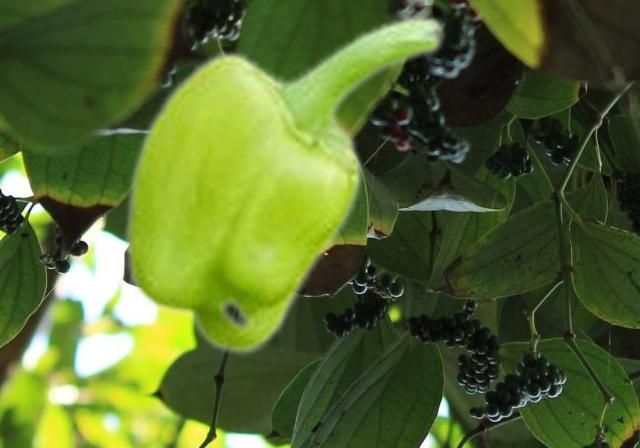bell_pepper: (122, 13, 447, 355)
